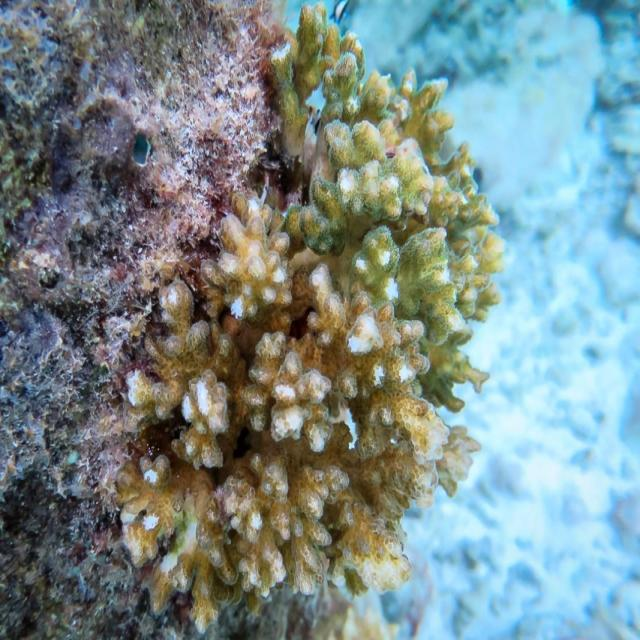Coral: (114, 0, 506, 634)
